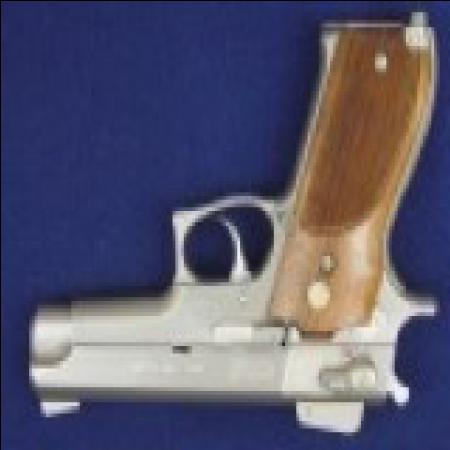Pistol: (25, 23, 441, 442)
